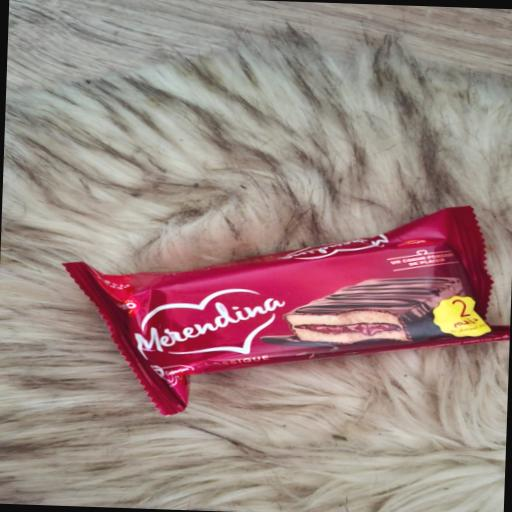merendina: (69, 179, 512, 440)
